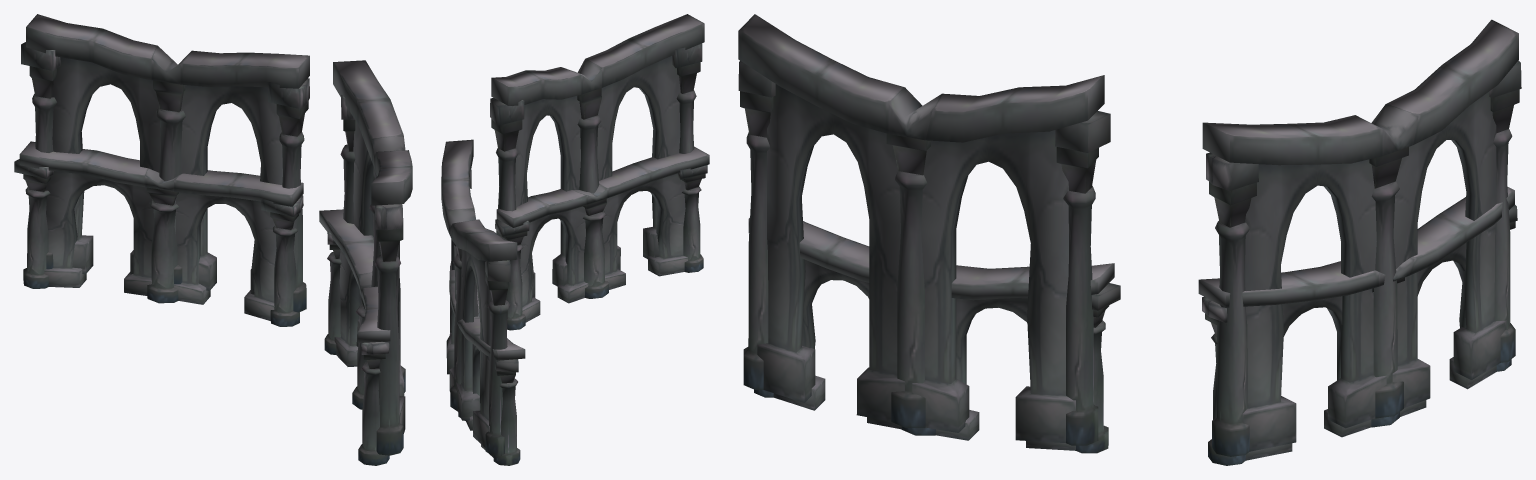
File: boss4_wujian_1.fbx
The picture shows the model from 3 angles, left to right: view 1: azimuth 30°, elevation 25°; view 2: azimuth 150°, elevation 25°; view 3: azimuth 270°, elevation 25°; orthographic projection. The views are drawn at different scales.
Parts seen in each view (by area): view 1: boss4_wujian_1; view 2: boss4_wujian_1; view 3: boss4_wujian_1.
Part boxes in pixels (x1,y1,x2,y2): boss4_wujian_1: (14, 14, 412, 465); boss4_wujian_1: (441, 14, 709, 465); boss4_wujian_1: (738, 14, 1521, 465).
Size of the model in its own units: 1359 by 1957 by 3631.
